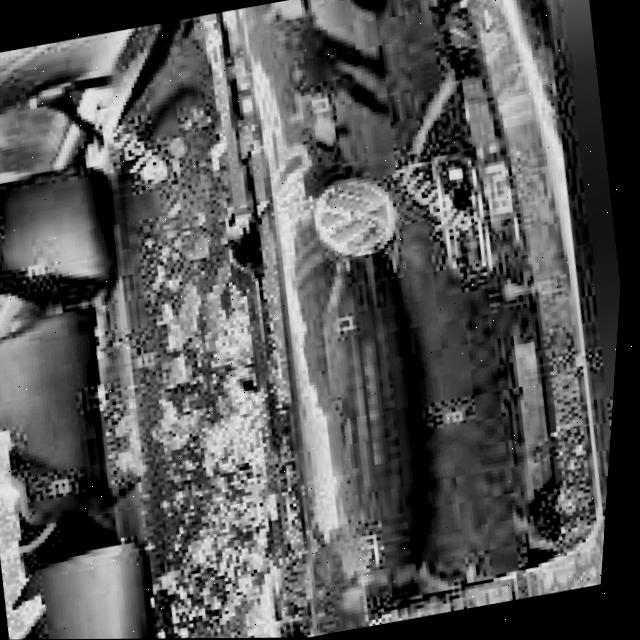glass_shatter: (0, 19, 336, 640)
